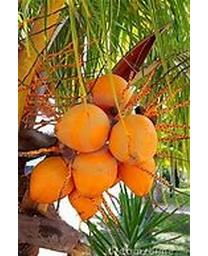coconut: (54, 101, 110, 151), (110, 113, 158, 165), (70, 148, 119, 196), (30, 154, 76, 204), (87, 73, 132, 116), (117, 154, 158, 197), (71, 184, 102, 219)
